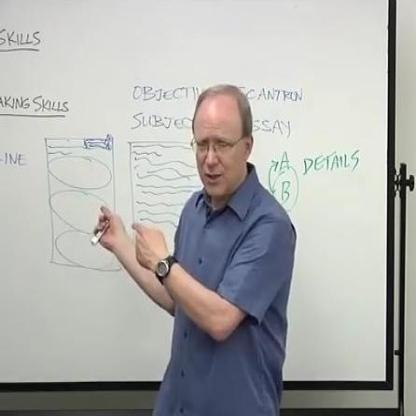Handwritten text: (128, 73, 301, 112), (132, 108, 299, 146), (1, 87, 71, 118), (304, 149, 360, 181), (1, 20, 42, 51), (3, 140, 24, 170)
Lecturer: (124, 72, 298, 401)
Whiteboard: (1, 0, 394, 395)
